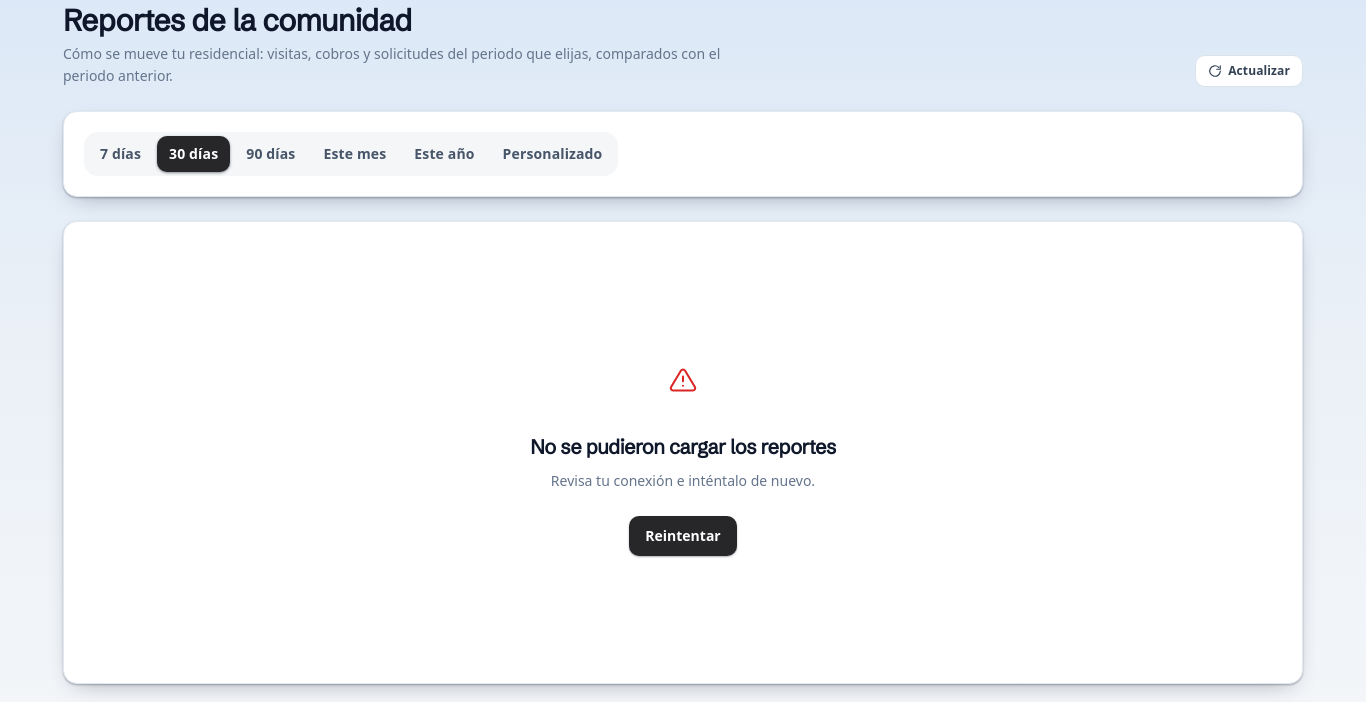
EstadisticasPage › si la carga falla, ofrece reintentar
Expected: the heading "No se pudieron cargar los reportes" is shown, [530, 432, 836, 462]
What coordinates should you click on to do the following:
click the button "Reintentar"
I would click on:
 (683, 536)
Its box is [629, 516, 737, 556].
(page scrolled)
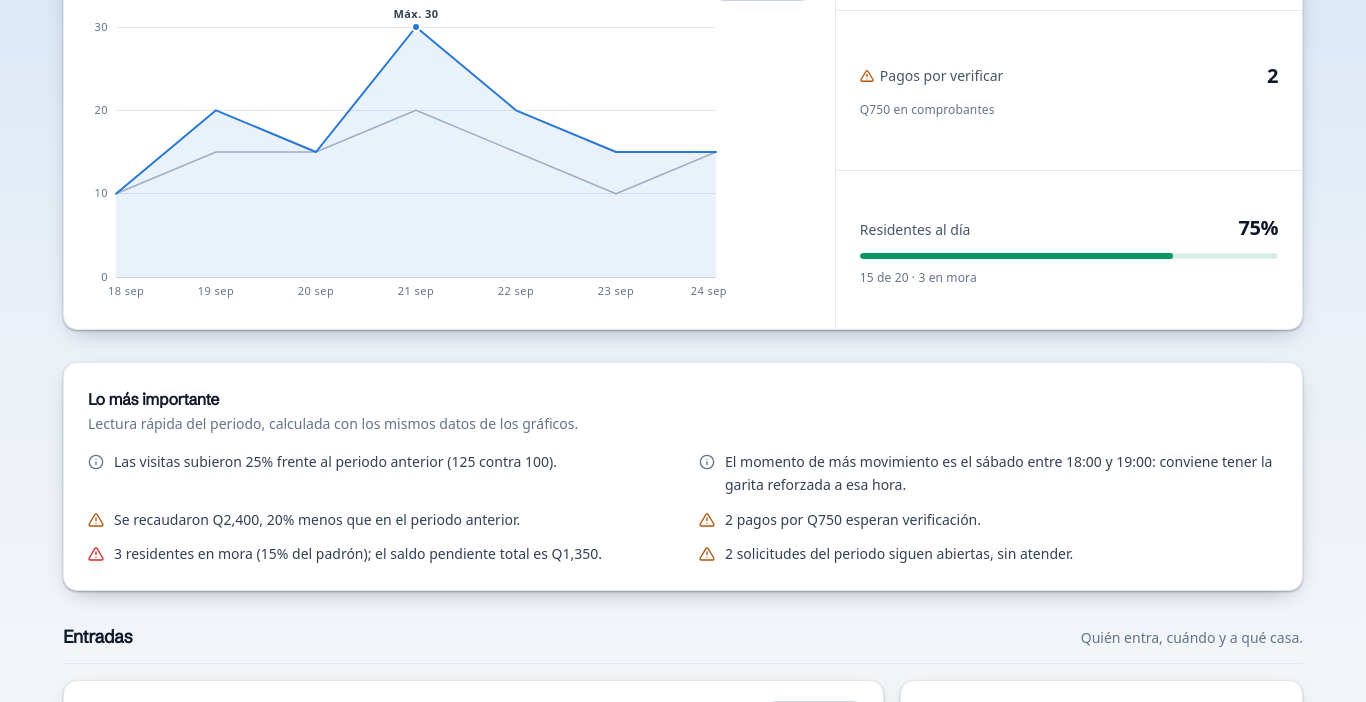
Now the heading "Lo más importante" is shown, box [88, 389, 219, 409]
